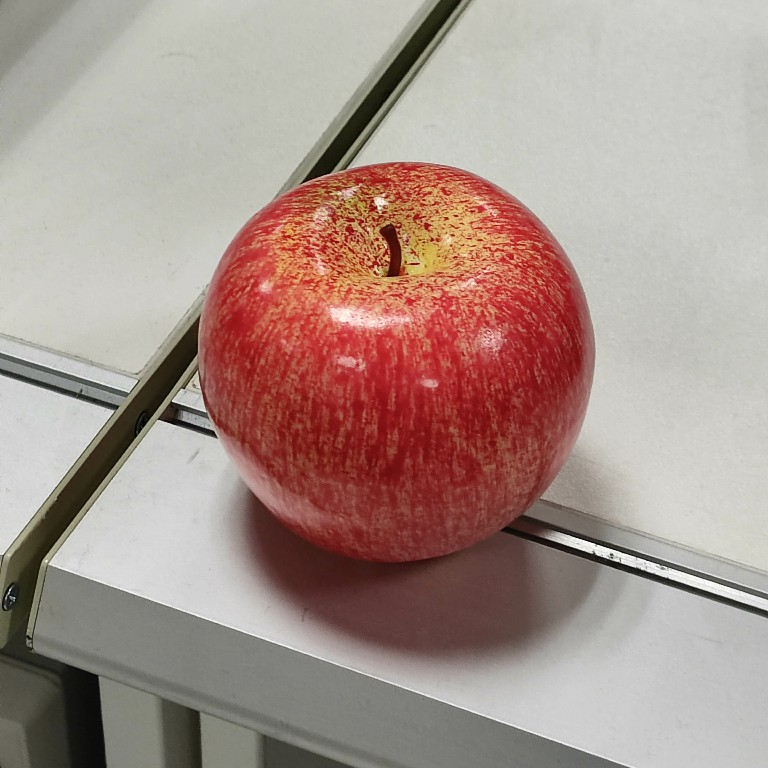fruit_apple: (187, 155, 602, 570)
